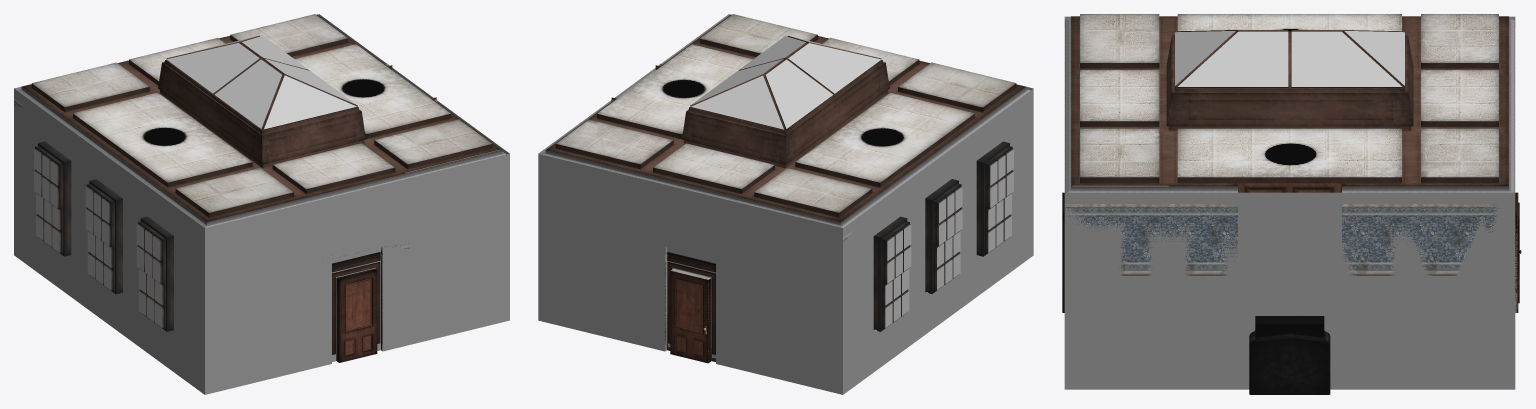
Rendered from chessroom.fbx.
3 views of the same model, side by side, from view 1: azimuth 30°, elevation 25°; view 2: azimuth 150°, elevation 25°; view 3: azimuth 270°, elevation 25° (orthographic). The views are drawn at different scales.
Parts seen in each view (by area): view 1: detail, col_wall04, col_wall02, window_pane02, window_pane01, col_wall01; view 2: detail, col_wall03, col_wall02, window_pane02, window_pane01, col_wall01; view 3: detail, col_wall01, window_pane02.
Part boxes in pixels (x1,y1,x2,y2): detail: (14, 14, 505, 362); col_wall04: (205, 153, 509, 394); col_wall02: (14, 88, 204, 394); window_pane02: (166, 36, 356, 129); window_pane01: (34, 149, 162, 327); col_wall01: (319, 14, 509, 154); detail: (542, 14, 1030, 363); col_wall03: (538, 154, 842, 394); col_wall02: (843, 89, 1033, 394); window_pane02: (691, 36, 881, 129); window_pane01: (885, 149, 1013, 327); col_wall01: (538, 14, 728, 154); detail: (1062, 14, 1521, 394); col_wall01: (1064, 192, 1515, 389); window_pane02: (1175, 31, 1404, 86).
Bounding box in the file's own units: 105 × 69.02 × 106.
